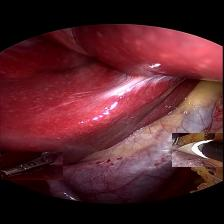Grasper: (1, 150, 63, 178)
Hook: (172, 132, 224, 166)
